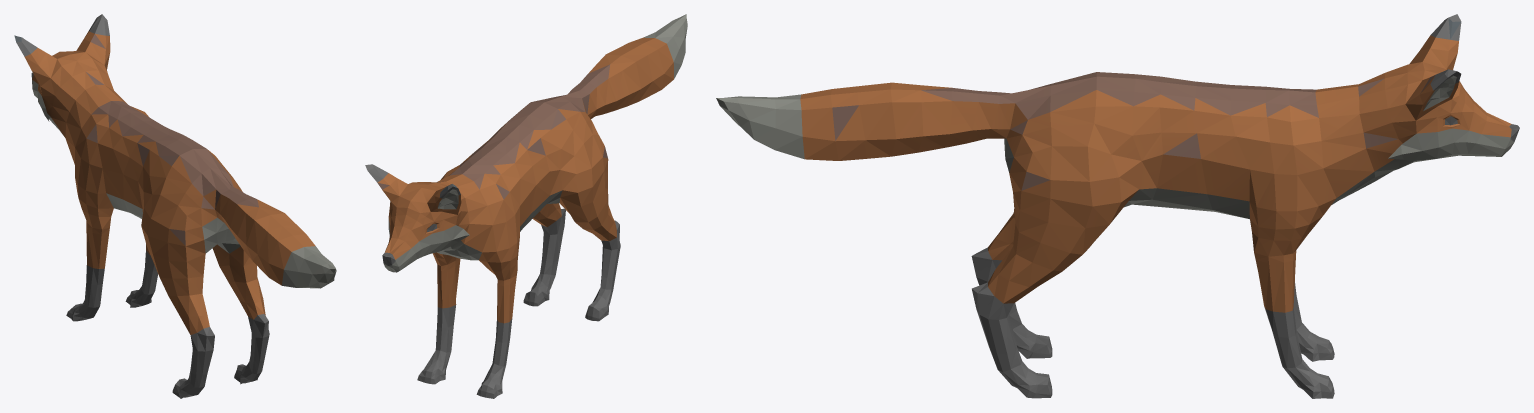
The model's file is spuerfuchs.glb.
3 views of the same model, side by side, from view 1: azimuth 30°, elevation 25°; view 2: azimuth 150°, elevation 25°; view 3: azimuth 270°, elevation 25° (orthographic). The views are drawn at different scales.
Visible parts, largest first — view 1: Fox; view 2: Fox; view 3: Fox.
Part boxes in pixels (x1,y1,x2,y2): Fox: (14,14,336,398); Fox: (365,14,687,398); Fox: (716,14,1519,398).
Size of the model in its own units: 0.4558 by 1.15 by 2.53.
